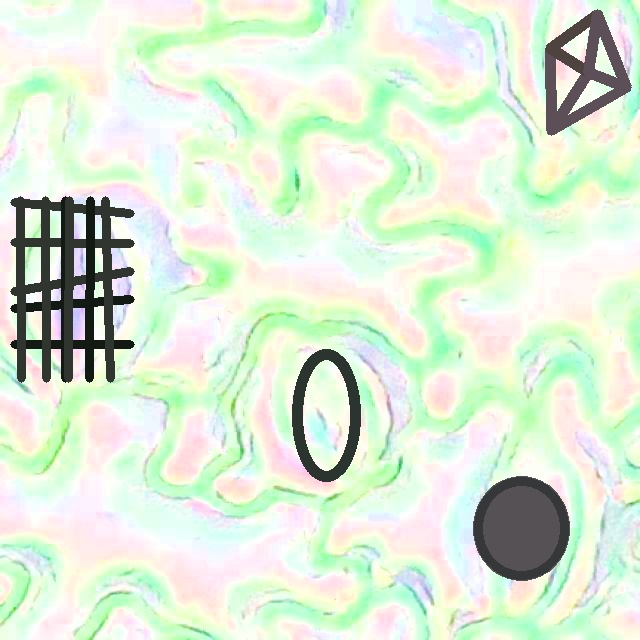close: (545, 10, 631, 135), (473, 476, 570, 580), (292, 349, 359, 482)
open: (11, 197, 134, 381)
